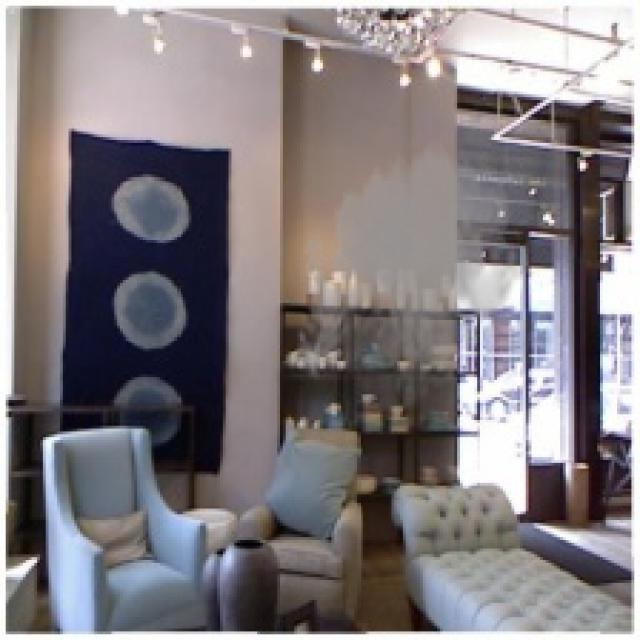smoke: (292, 137, 534, 417)
